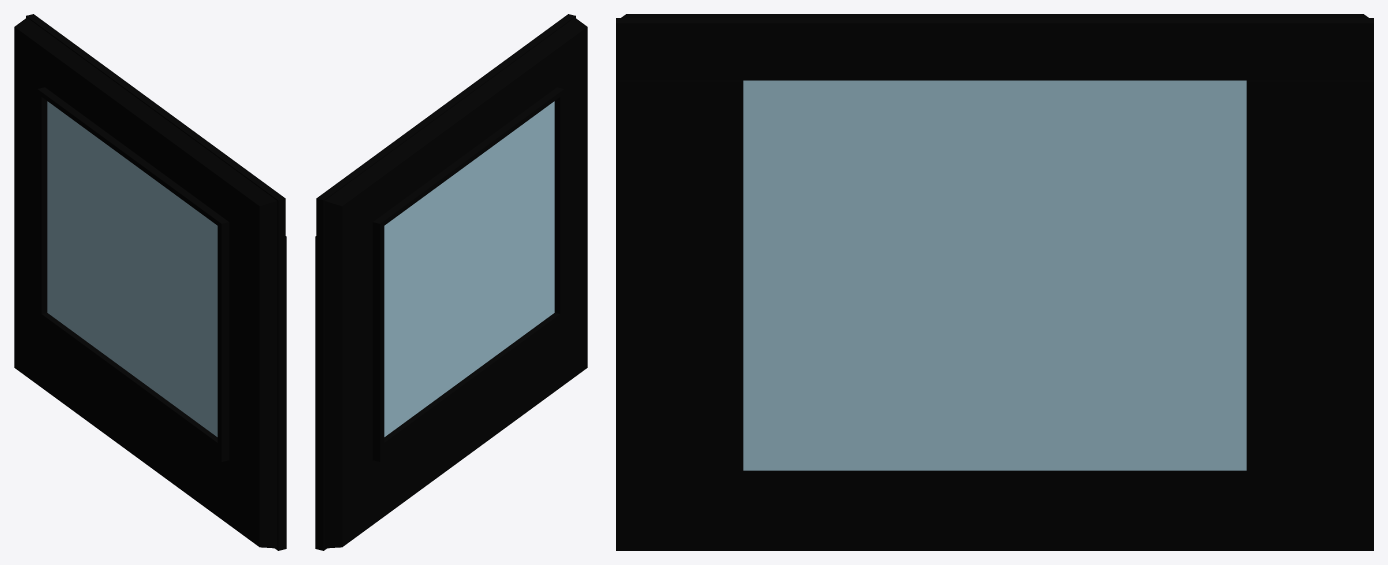
File: IAIOvenDoor.FBX
3 renders of one model, left to right at view 1: azimuth 30°, elevation 25°; view 2: azimuth 150°, elevation 25°; view 3: azimuth 270°, elevation 25°, orthographic. The views are drawn at different scales.
Parts seen in each view (by area): view 1: IAIOvenDoor; view 2: IAIOvenDoor; view 3: IAIOvenDoor.
Part boxes in pixels (x1,y1,x2,y2): IAIOvenDoor: (14, 14, 286, 550); IAIOvenDoor: (315, 14, 587, 550); IAIOvenDoor: (616, 14, 1373, 550).
Size of what is drawn, in the model's own units: 4.1 by 44.5 by 58.
